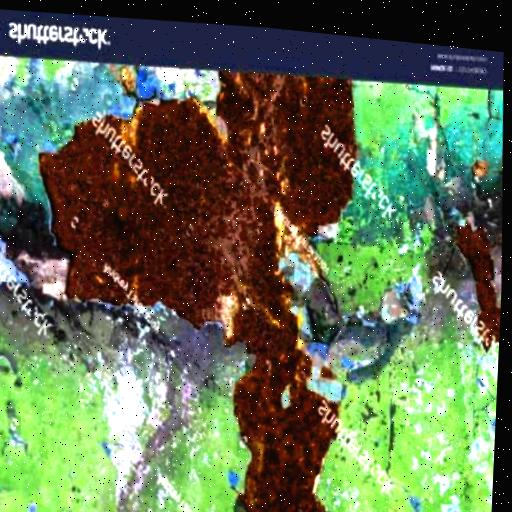corrosion: (22, 66, 375, 324), (199, 333, 374, 512), (444, 210, 505, 350)
